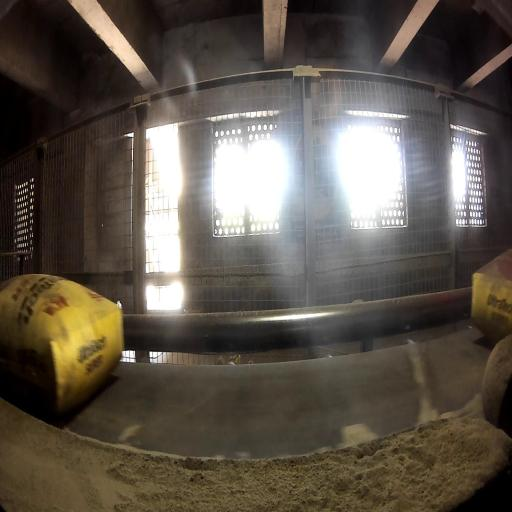c-belt-sack-count: (0, 274, 124, 413)
